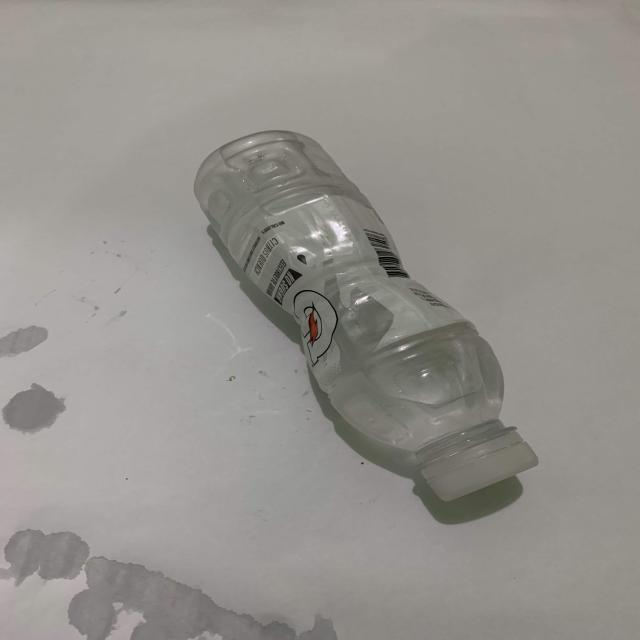high: (194, 130, 538, 500)
